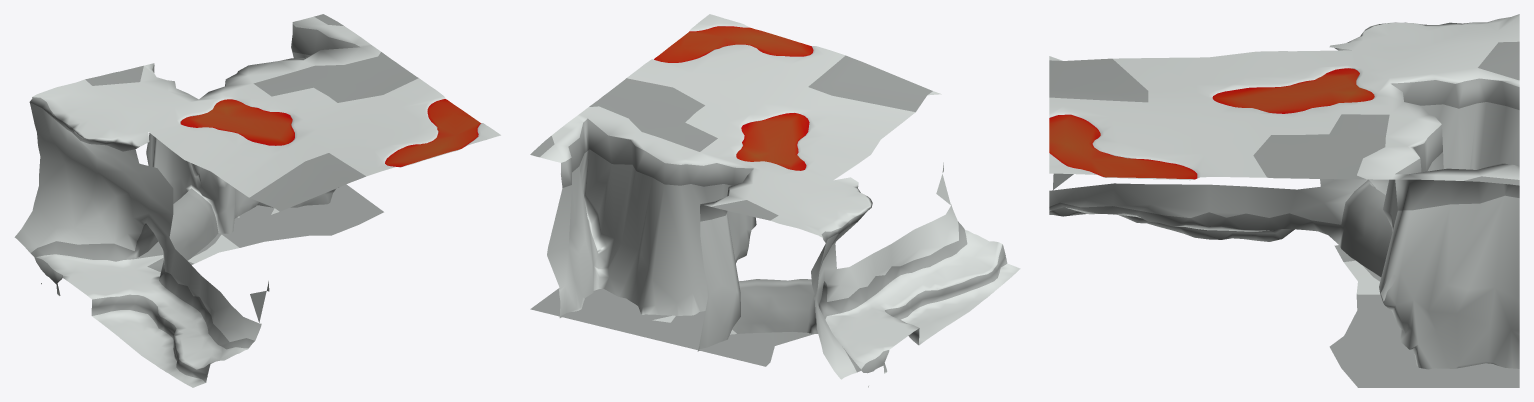
The picture shows the model from 3 angles, left to right: view 1: azimuth 30°, elevation 25°; view 2: azimuth 150°, elevation 25°; view 3: azimuth 270°, elevation 25°; orthographic projection. The views are drawn at different scales.
Visible parts, largest first — view 1: G:\FFXIV-MapTools\exports\r2f1\bg\ex1\01_roc_r2\fld\r2f1\bgp (×7); view 2: G:\FFXIV-MapTools\exports\r2f1\bg\ex1\01_roc_r2\fld\r2f1\bgp (×6); view 3: G:\FFXIV-MapTools\exports\r2f1\bg\ex1\01_roc_r2\fld\r2f1\bgp (×7).
Part boxes in pixels (left/top/right/bottom): G:\FFXIV-MapTools\exports\r2f1\bg\ex1\01_roc_r2\fld\r2f1\bgp (×7): left=14, top=14, right=500, bottom=387; G:\FFXIV-MapTools\exports\r2f1\bg\ex1\01_roc_r2\fld\r2f1\bgp (×6): left=530, top=14, right=1020, bottom=387; G:\FFXIV-MapTools\exports\r2f1\bg\ex1\01_roc_r2\fld\r2f1\bgp (×7): left=1049, top=14, right=1519, bottom=387.
Size of the model in its own units: 128 by 73.12 by 128.
